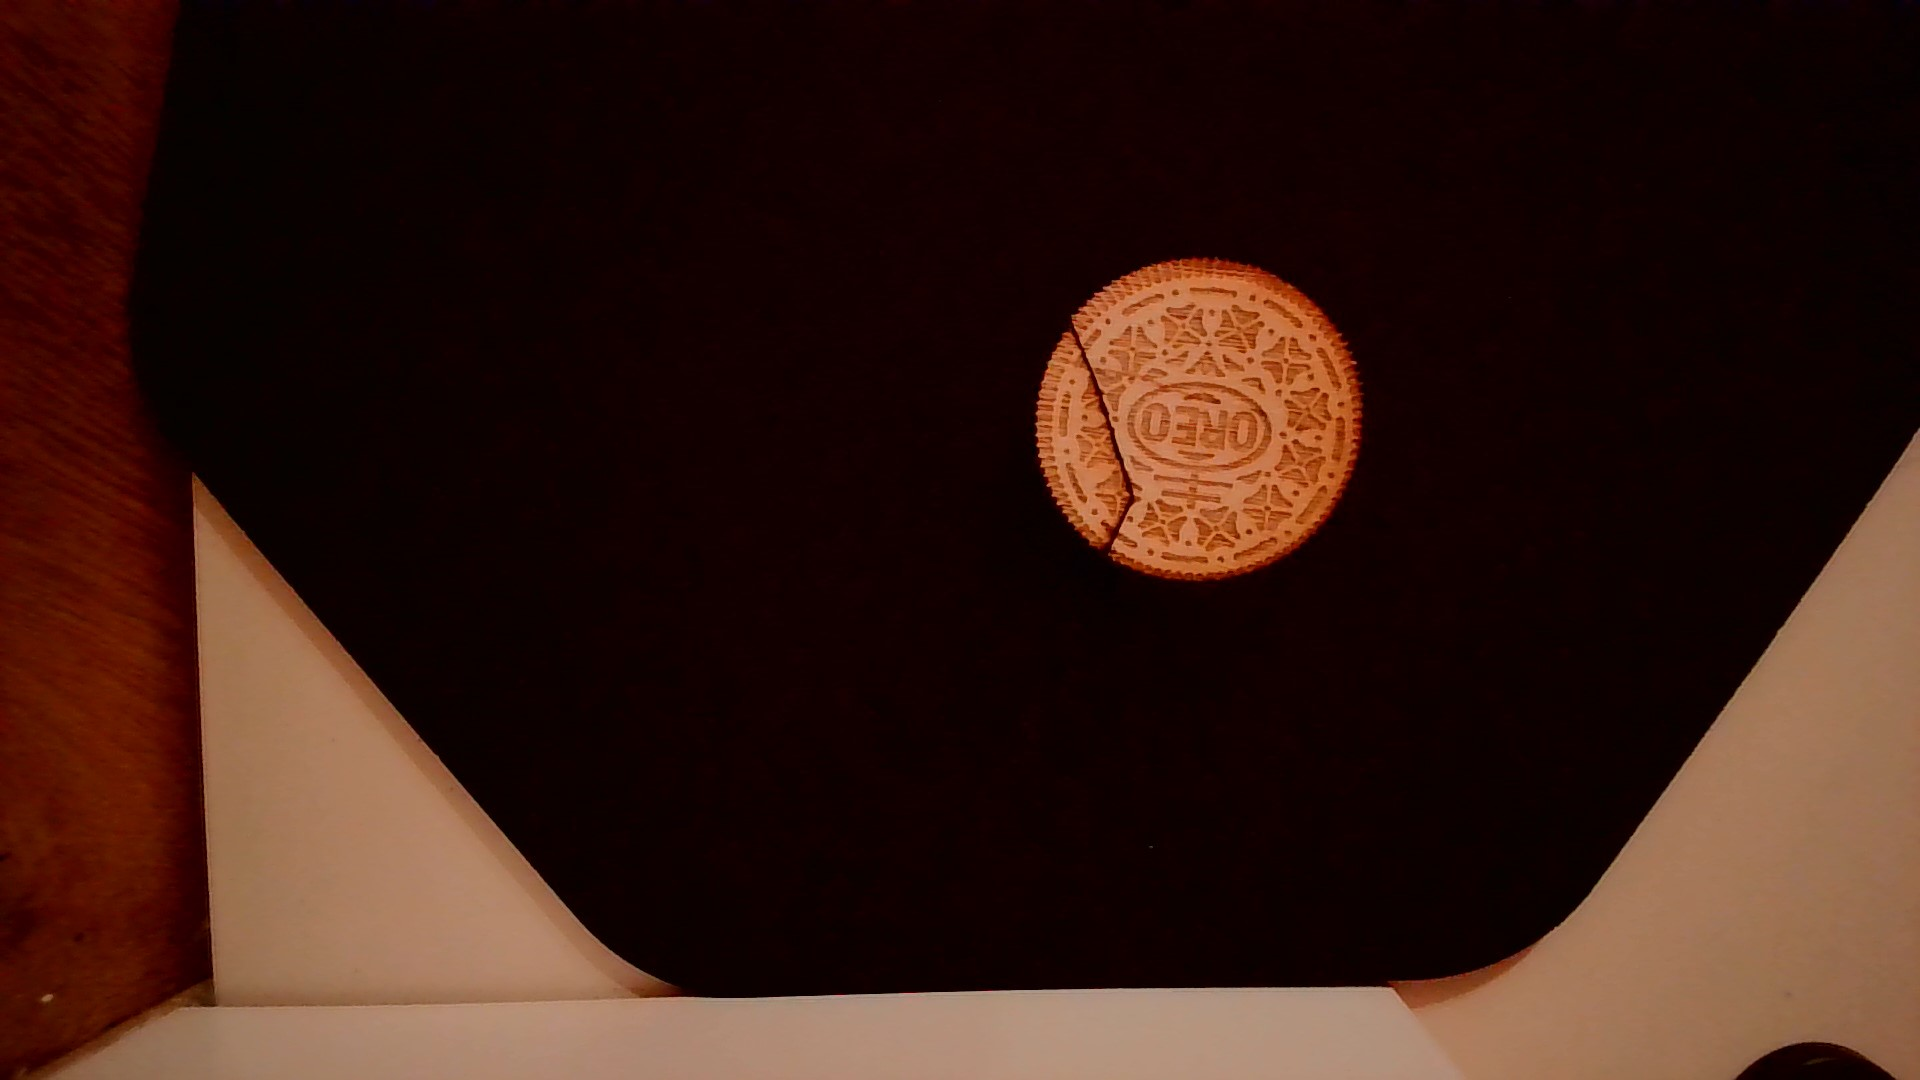Fissure: (1060, 316, 1160, 551)
Oréo: (1023, 251, 1371, 589)
